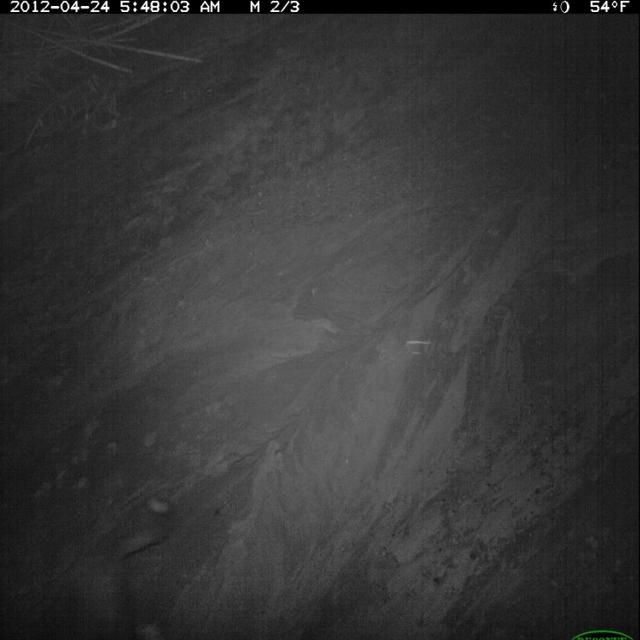dog: (3, 494, 179, 640)
